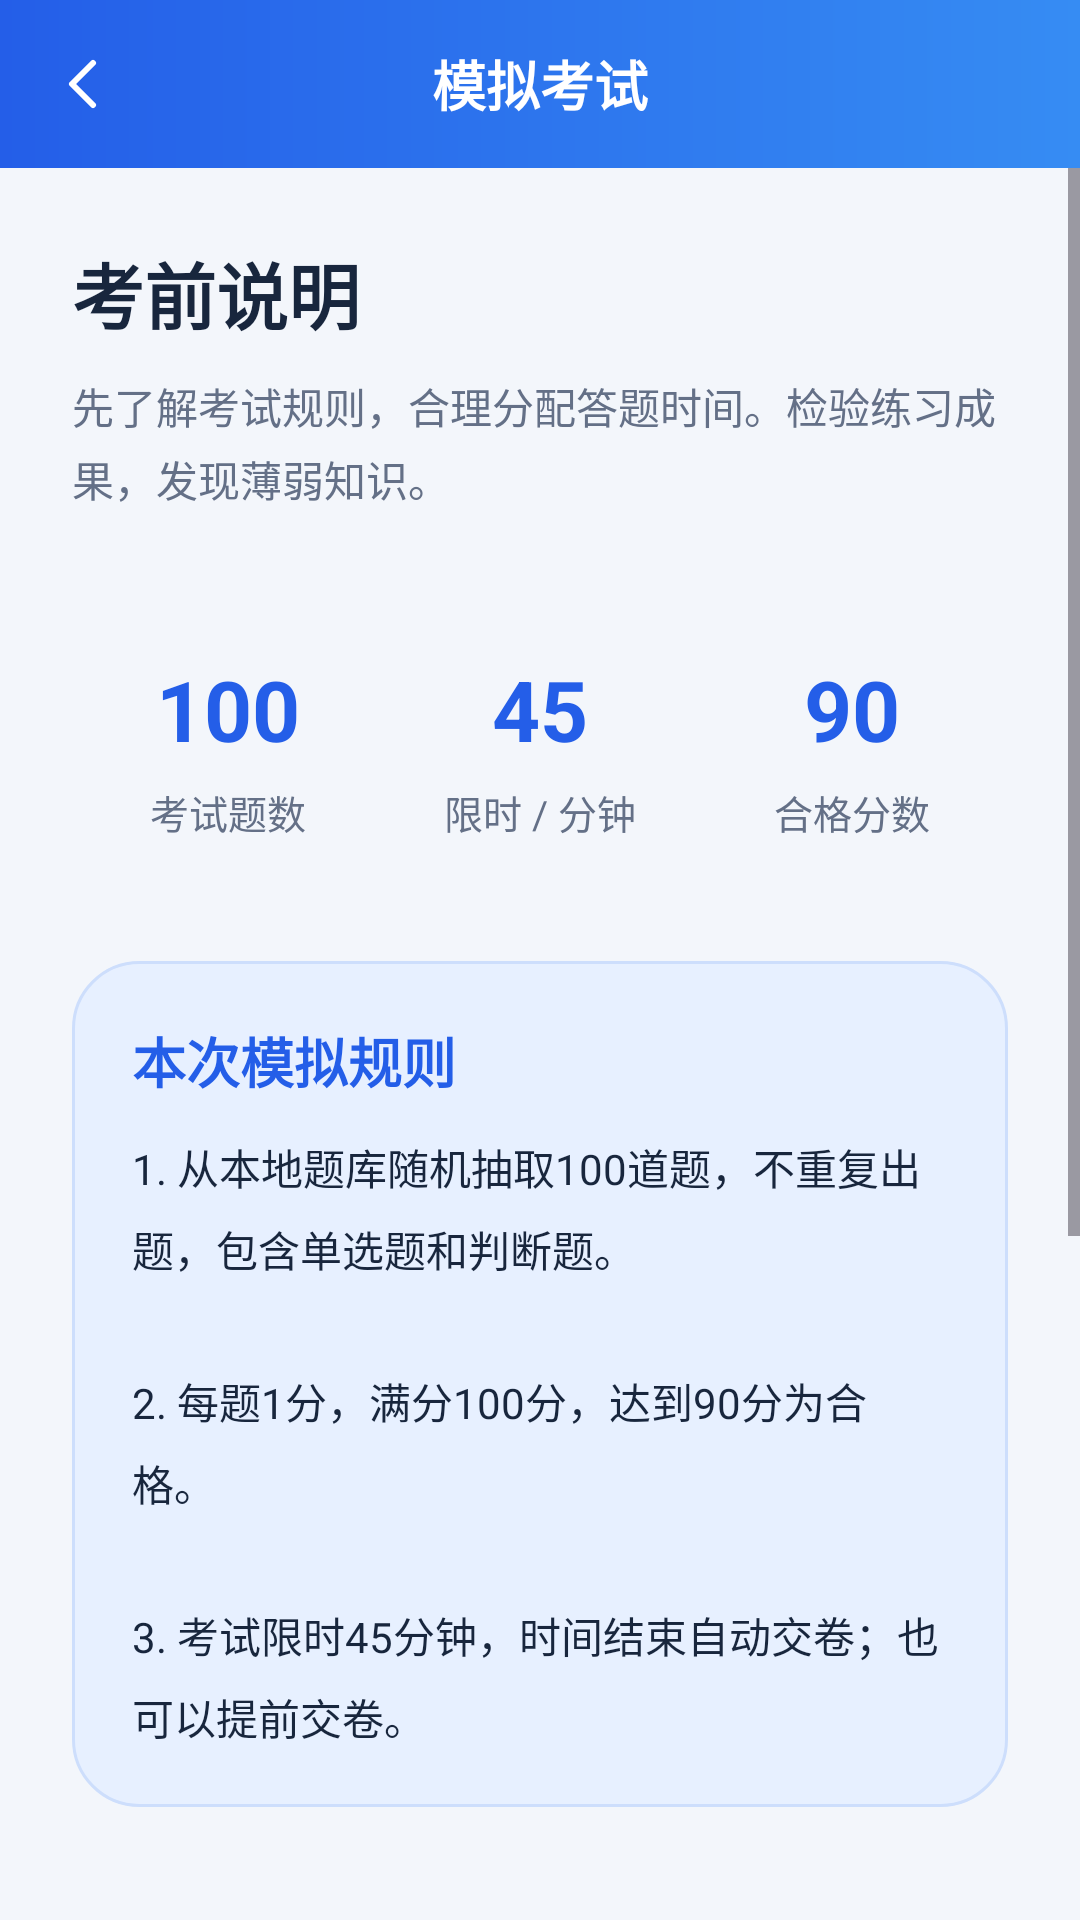

Icon bounding boxes for this 1080w x 1920h phone screenshot, format (x1=x1, y1=y1, x2=x2, y2=y2):
返回首页: (x1=69, y1=60, x2=96, y2=108)
